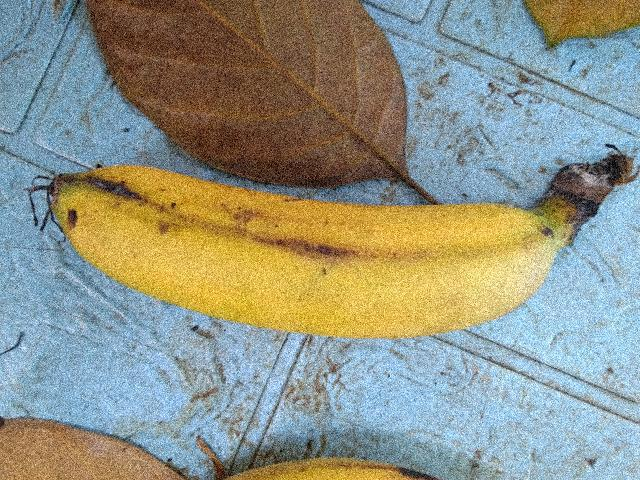ripe: (53, 140, 563, 378)
